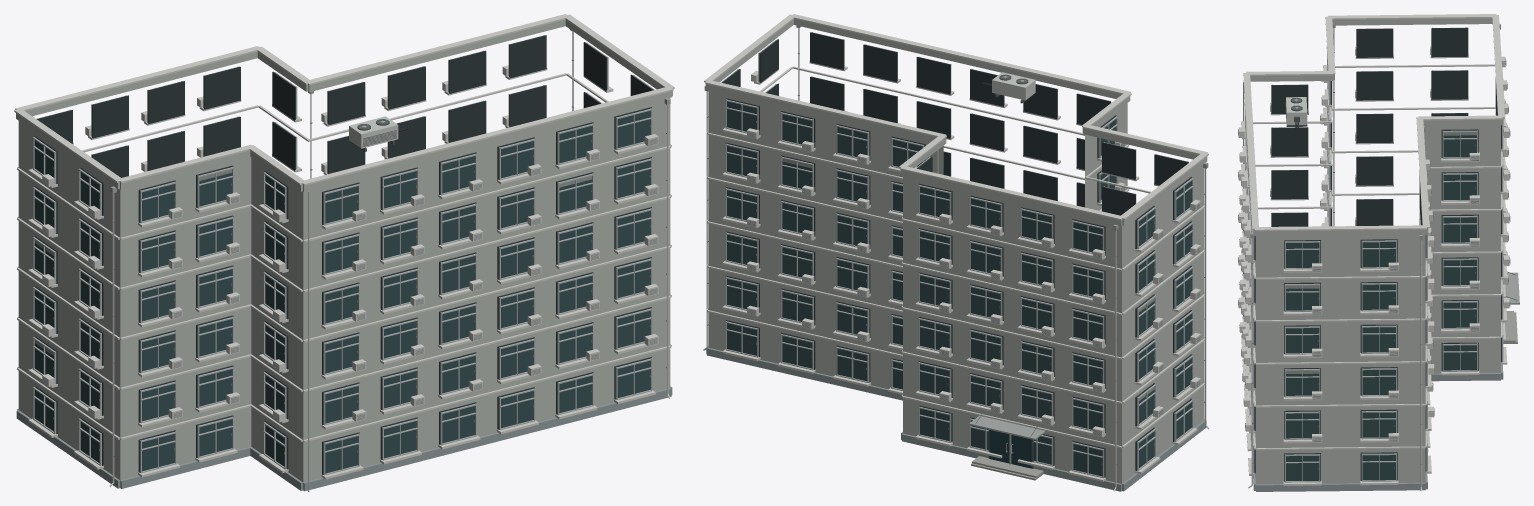
File: osm_way_223859824.glb
The picture shows the model from 3 angles, left to right: view 1: azimuth 30°, elevation 25°; view 2: azimuth 150°, elevation 25°; view 3: azimuth 270°, elevation 25°; orthographic projection. The views are drawn at different scales.
Visible parts, largest first — view 1: Windows and facade details | 5, Architecture | 5, Roof services | 5, EXTERIOR::osm_way_223859824::rainwater and roof service deta; view 2: Architecture | 5, Windows and facade details | 5, Roof services | 5, EXTERIOR::osm_way_223859824::inferred entry doors canopy and, EXTERIOR::osm_way_223859824::rainwater and roof service deta; view 3: Architecture | 5, Windows and facade details | 5, Roof services | 5, EXTERIOR::osm_way_223859824::rainwater and roof service deta, EXTERIOR::osm_way_223859824::inferred entry doors canopy and, EXTERIOR::osm_way_223859824::native pane seals and hardware.
Part boxes in pixels (x1=…): Windows and facade details | 5: x1=28, y1=35, x2=658, y2=491; Architecture | 5: x1=16, y1=19, x2=672, y2=491; Roof services | 5: x1=14, y1=14, x2=674, y2=185; EXTERIOR::osm_way_223859824::rainwater and roof service deta: x1=109, y1=29, x2=670, y2=486; Architecture | 5: x1=705, y1=19, x2=1207, y2=491; Windows and facade details | 5: x1=720, y1=32, x2=1200, y2=481; Roof services | 5: x1=704, y1=14, x2=1208, y2=220; EXTERIOR::osm_way_223859824::inferred entry doors canopy and: x1=969, y1=410, x2=1045, y2=480; EXTERIOR::osm_way_223859824::rainwater and roof service deta: x1=703, y1=25, x2=1209, y2=491; Architecture | 5: x1=1250, y1=18, x2=1503, y2=491; Windows and facade details | 5: x1=1238, y1=27, x2=1510, y2=485; Roof services | 5: x1=1243, y1=14, x2=1504, y2=231; EXTERIOR::osm_way_223859824::rainwater and roof service deta: x1=1248, y1=24, x2=1500, y2=490; EXTERIOR::osm_way_223859824::inferred entry doors canopy and: x1=1502, y1=271, x2=1519, y2=343; EXTERIOR::osm_way_223859824::native pane seals and hardware: x1=1286, y1=132, x2=1476, y2=469.
Bounding box in the file's own units: 35.47 × 20.58 × 19.18.
